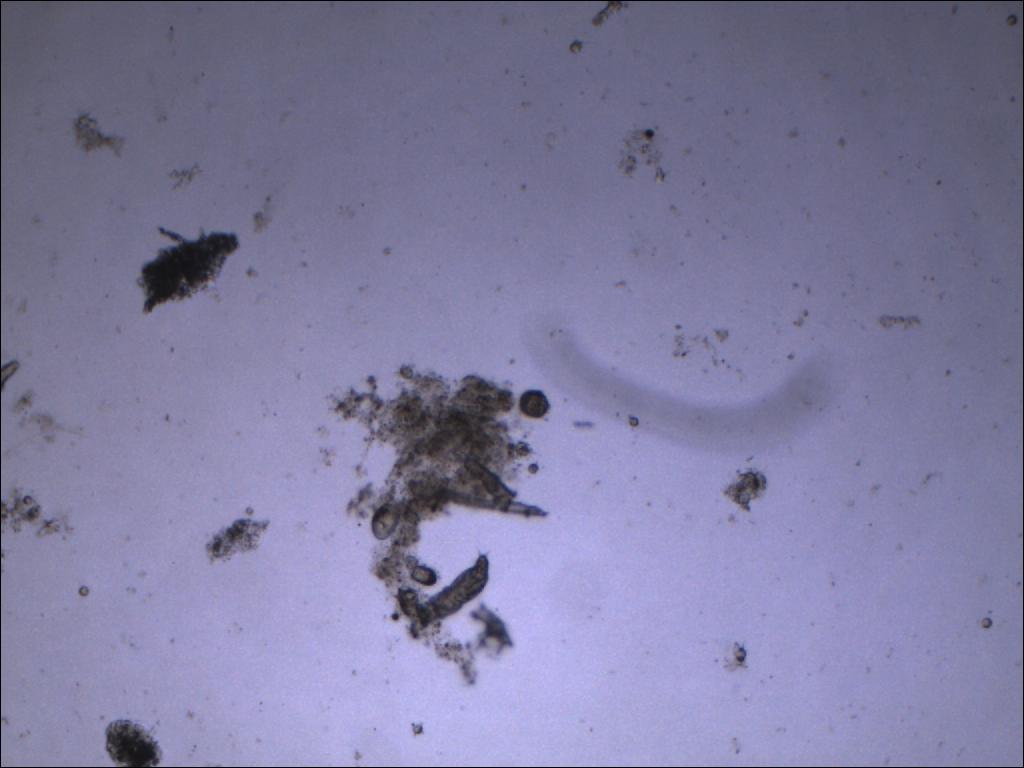amoeba: (132, 219, 247, 320)
